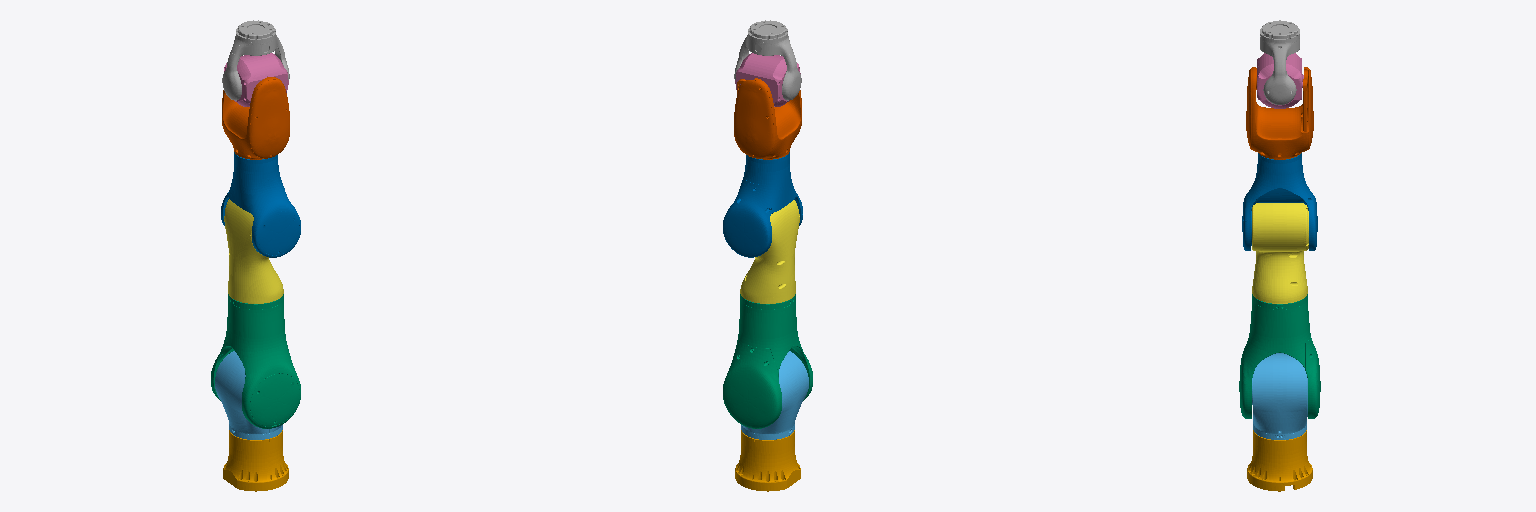
The robot description file, URDF, robot "RokaeAR5":
<?xml version="1.0" ?>
<!-- =================================================================================== -->
<!-- |    This document was autogenerated by xacro from robot.xacro                    | -->
<!-- |    EDITING THIS FILE BY HAND IS NOT RECOMMENDED                                 | -->
<!-- =================================================================================== -->
<robot name="RokaeAR5">
  <!-- Base Link -->
  <link name="base_link">
    <inertial>
      <mass value="2.4"/>
      <inertia ixx="0.00397965" ixy="0.00000303" ixz="0.00000035" iyy="0.00315361" iyz="0.00002442" izz="0.00357979"/>
      <origin xyz="2.6805e-05 0.0011749210000000002 0.171179958"/>
    </inertial>
    <visual>
      <geometry>
        <mesh filename="package://rokae_ar5_description/meshes/ccs/base.obj"/>
      </geometry>
    </visual>
    <collision>
      <geometry>
        <mesh filename="package://rokae_ar5_description/meshes/ccs/base.obj"/>
      </geometry>
    </collision>
  </link>
  <!-- Joint 1 -->
  <joint name="joint1" type="revolute">
    <parent link="base_link"/>
    <child link="link1"/>
    <limit effort="108" lower="-3.1067" upper="3.1067" velocity="3.0543261909900763"/>
    <axis xyz="0 0 1"/>
  </joint>
  <!-- Link 1 -->
  <link name="link1">
    <inertial>
      <mass value="2.683"/>
      <inertia ixx="0.00493673" ixy="0.00000160" ixz="1.98e-06" iyy="0.00452344" iyz="-2e-07" izz="0.00432910"/>
      <origin xyz="1e-06 -0.000621 0.167909"/>
    </inertial>
    <visual>
      <geometry>
        <mesh filename="package://rokae_ar5_description/meshes/ccs/link1.obj" scale="1 1 1"/>
      </geometry>
    </visual>
    <collision>
      <geometry>
        <mesh filename="package://rokae_ar5_description/meshes/ccs/link1.obj" scale="1 1 1"/>
      </geometry>
    </collision>
  </link>
  <!-- Joint 2 -->
  <joint name="joint2" type="revolute">
    <parent link="link1"/>
    <child link="link2"/>
    <limit effort="108" lower="-2.0944" upper="2.0944" velocity="3.0543261909900763"/>
    <axis xyz="0 1 0"/>
    <origin xyz="0.0 0.0 0.1745"/>
  </joint>
  <!-- Link 2 -->
  <link name="link2">
    <inertial>
      <mass value="2.3"/>
      <inertia ixx="0.01151906" ixy="0.00000246" ixz="-5.5e-07" iyy="0.00993335" iyz="0.00082477" izz="0.00435237"/>
      <origin xyz="-2e-05 -0.003081 0.10298600000000001"/>
    </inertial>
    <visual>
      <geometry>
        <mesh filename="package://rokae_ar5_description/meshes/ccs/link2.obj" scale="1 1 1"/>
      </geometry>
    </visual>
    <collision>
      <geometry>
        <mesh filename="package://rokae_ar5_description/meshes/ccs/link2.obj" scale="1 1 1"/>
      </geometry>
    </collision>
  </link>
  <!-- Joint 3 -->
  <joint name="joint3" type="revolute">
    <parent link="link2"/>
    <child link="link3"/>
    <limit effort="66" lower="-3.1067" upper="3.1067" velocity="4.71238898038469"/>
    <axis xyz="0 0 1"/>
    <origin xyz="0.0 0.0 0.314"/>
  </joint>
  <!-- Link 3 -->
  <link name="link3">
    <inertial>
      <mass value="1.862"/>
      <inertia ixx="0.00519681" ixy="1.208e-05" ixz="0.00035761" iyy="0.00470446" iyz="3.43e-05" izz="0.00266752"/>
      <origin xyz="0.007097 -0.0006590000000000001 -0.016530999999999997"/>
    </inertial>
    <visual>
      <geometry>
        <mesh filename="package://rokae_ar5_description/meshes/ccs/link3.obj" scale="1 1 1"/>
      </geometry>
    </visual>
    <collision>
      <geometry>
        <mesh filename="package://rokae_ar5_description/meshes/ccs/link3.obj" scale="1 1 1"/>
      </geometry>
    </collision>
  </link>
  <!-- Joint 4 -->
  <joint name="joint4" type="revolute">
    <parent link="link3"/>
    <child link="link4"/>
    <limit effort="66" lower="-1.0472" upper="2.5307" velocity="5.235987755982989"/>
    <axis xyz="0 1 0"/>
    <origin xyz="0.01 0.0 0.0"/>
  </joint>
  <!-- Link 4 -->
  <link name="link4">
    <inertial>
      <mass value="1.234"/>
      <inertia ixx="0.00389590" ixy="-4.577e-05" ixz="-0.00017280" iyy="0.00308657" iyz="0.00046679" izz="0.00188364"/>
      <origin xyz="-0.007826 -0.004207 0.073404"/>
    </inertial>
    <visual>
      <geometry>
        <mesh filename="package://rokae_ar5_description/meshes/ccs/link4.obj" scale="1 1 1"/>
      </geometry>
    </visual>
    <collision>
      <geometry>
        <mesh filename="package://rokae_ar5_description/meshes/ccs/link4.obj" scale="1 1 1"/>
      </geometry>
    </collision>
  </link>
  <!-- Joint 5 -->
  <joint name="joint5" type="revolute">
    <parent link="link4"/>
    <child link="link5"/>
    <limit effort="19" lower="-3.1067" upper="3.1067" velocity="4.1887902047863905"/>
    <axis xyz="0 0 1"/>
    <origin xyz="-0.01 0.0 0.272"/>
  </joint>
  <!-- Link 5 -->
  <link name="link5">
    <inertial>
      <mass value="1.329"/>
      <inertia ixx="0.00281562" ixy="1.782e-05" ixz="0.00001650" iyy="0.00221084" iyz="2.1e-05" izz="0.00182169"/>
      <origin xyz="0.00028399999999999996 0.0016510000000000001 -0.084133"/>
    </inertial>
    <visual>
      <geometry>
        <mesh filename="package://rokae_ar5_description/meshes/ccs/link5.obj" scale="1 1 1"/>
      </geometry>
    </visual>
    <collision>
      <geometry>
        <mesh filename="package://rokae_ar5_description/meshes/ccs/link5.obj" scale="1 1 1"/>
      </geometry>
    </collision>
  </link>
  <!-- Joint 6 -->
  <joint name="joint6" type="revolute">
    <parent link="link5"/>
    <child link="link6"/>
    <limit effort="19" lower="-1.0472" upper="1.0472" velocity="4.1887902047863905"/>
    <axis xyz="0 1 0"/>
  </joint>
  <!-- Link 6 -->
  <link name="link6">
    <inertial>
      <mass value="0.93"/>
      <inertia ixx="0.00072078" ixy="-2.17e-06" ixz="1.08e-06" iyy="0.00085153" iyz="4.8e-07" izz="0.00090205"/>
      <origin xyz="0.005405999999999999 0.000612 -3.9e-05"/>
    </inertial>
    <visual>
      <geometry>
        <mesh filename="package://rokae_ar5_description/meshes/ccs/link6.obj" scale="1 1 1"/>
      </geometry>
    </visual>
    <collision>
      <geometry>
        <mesh filename="package://rokae_ar5_description/meshes/ccs/link6.obj" scale="1 1 1"/>
      </geometry>
    </collision>
  </link>
  <!-- Joint 7 -->
  <joint name="joint7" type="revolute">
    <parent link="link6"/>
    <child link="link7"/>
    <limit effort="19" lower="-1.0472" upper="1.0472" velocity="4.1887902047863905"/>
    <axis xyz="1 0 0"/>
  </joint>
  <!-- Link 7 -->
  <link name="link7">
    <inertial>
      <mass value="0.33"/>
      <inertia ixx="0.00051942" ixy="-5.2e-07" ixz="0.00003721" iyy="0.00079132" iyz="2.65e-06" izz="0.00045886"/>
      <origin xyz="-0.00277 0.000316 0.054881"/>
    </inertial>
    <visual>
      <geometry>
        <mesh filename="package://rokae_ar5_description/meshes/ccs/link7.obj" scale="1 1 1"/>
      </geometry>
    </visual>
    <collision>
      <geometry>
        <mesh filename="package://rokae_ar5_description/meshes/ccs/link7.obj" scale=" 1 1 1"/>
      </geometry>
    </collision>
  </link>
  <!-- TCP -->
  <link name="tcp">
    <inertial>
      <mass value="0.0"/>
      <inertia ixx="1e-6" ixy="0" ixz="0" iyy="1e-6" iyz="0" izz="1e-6"/>
    </inertial>
  </link>
  <joint name="tcp_joint" type="fixed">
    <parent link="link7"/>
    <child link="tcp"/>
    <origin xyz="0.0 0.0 0.097"/>
  </joint>
</robot>

--- Facts derived from the render (not from the file) ---
3 views of the same robot in one strip: view 1: azimuth 30°, elevation 25°; view 2: azimuth 150°, elevation 25°; view 3: azimuth 270°, elevation 25° (orthographic).
Model RokaeAR5 with 9 links and 8 joints (7 revolute, 1 fixed), rooted at base_link, posed all joints at 0.
Visible links, largest first — view 1: link2, link4, link5, link3, base_link, link1, link7, link6; view 2: link2, link4, link5, link3, base_link, link1, link7, link6; view 3: link3, link2, link1, link5, link4, base_link, link7, link6.
Boxes of the visible links, <box> form: link2: <box>211,294,300,428</box>; link4: <box>221,152,300,257</box>; link5: <box>222,77,289,159</box>; link3: <box>224,199,283,303</box>; base_link: <box>223,430,288,491</box>; link1: <box>215,351,282,439</box>; link7: <box>222,20,289,100</box>; link6: <box>224,53,288,106</box>; link2: <box>723,294,812,428</box>; link4: <box>723,152,802,257</box>; link5: <box>734,78,801,159</box>; link3: <box>740,200,799,303</box>; base_link: <box>735,430,800,491</box>; link1: <box>741,351,808,439</box>; link7: <box>734,20,801,100</box>; link6: <box>735,53,800,106</box>; link3: <box>1252,203,1308,303</box>; link2: <box>1239,294,1320,418</box>; link1: <box>1252,353,1307,439</box>; link5: <box>1246,67,1313,159</box>; link4: <box>1242,153,1317,250</box>; base_link: <box>1247,430,1312,491</box>; link7: <box>1260,20,1299,104</box>; link6: <box>1257,53,1303,108</box>.
Bounding box of the posed robot: 0.1169 × 0.1402 × 0.8575 m (x, y, z).
8 mesh visuals loaded from 8 distinct referenced files (8 OBJ).
